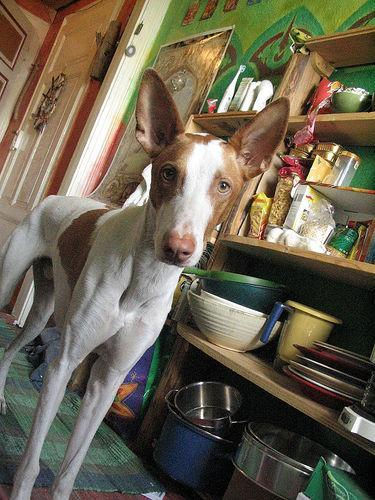Ibizan_hound: (1, 68, 290, 498)
